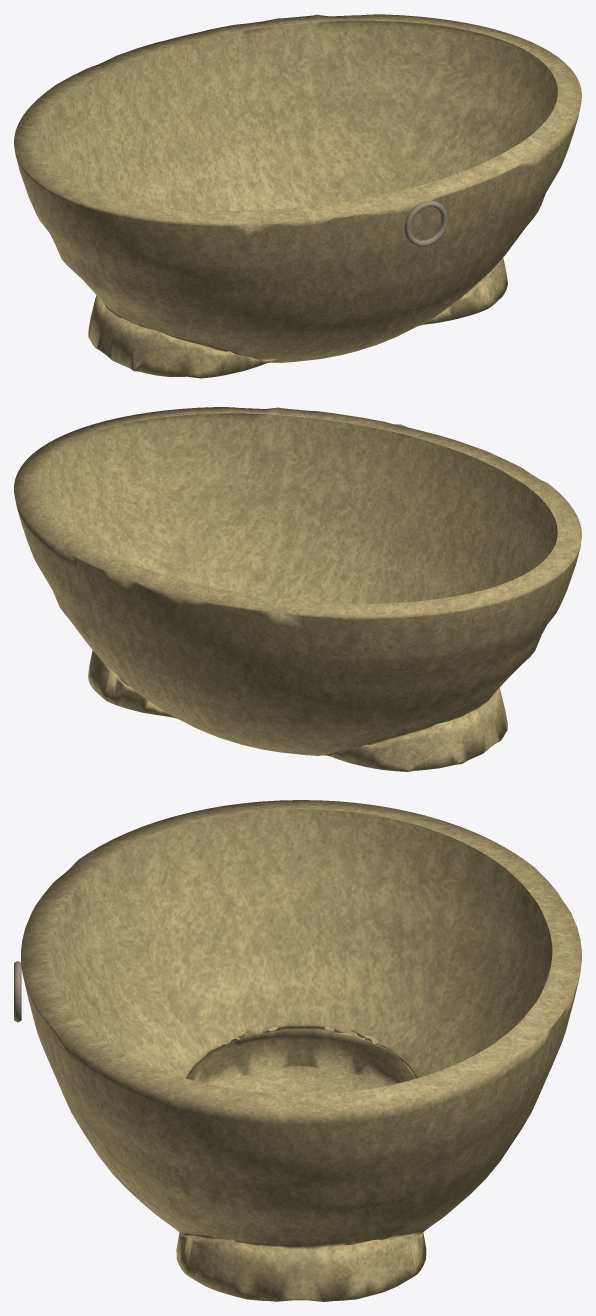
Rendered from shorts1.fbx.
The picture shows the model from 3 angles, top to bottom: view 1: azimuth 30°, elevation 25°; view 2: azimuth 150°, elevation 25°; view 3: azimuth 270°, elevation 25°; orthographic projection. The views are drawn at different scales.
Visible parts, largest first — view 1: shorts1; view 2: shorts1; view 3: shorts1.
Boxes of the visible parts, x1=… form: shorts1: x1=14, y1=14, x2=581, y2=378; shorts1: x1=14, y1=407, x2=581, y2=771; shorts1: x1=14, y1=800, x2=581, y2=1301.
Size of the model in its own units: 0.8311 by 0.3457 by 0.6425.
2 materials, 1 textured.
